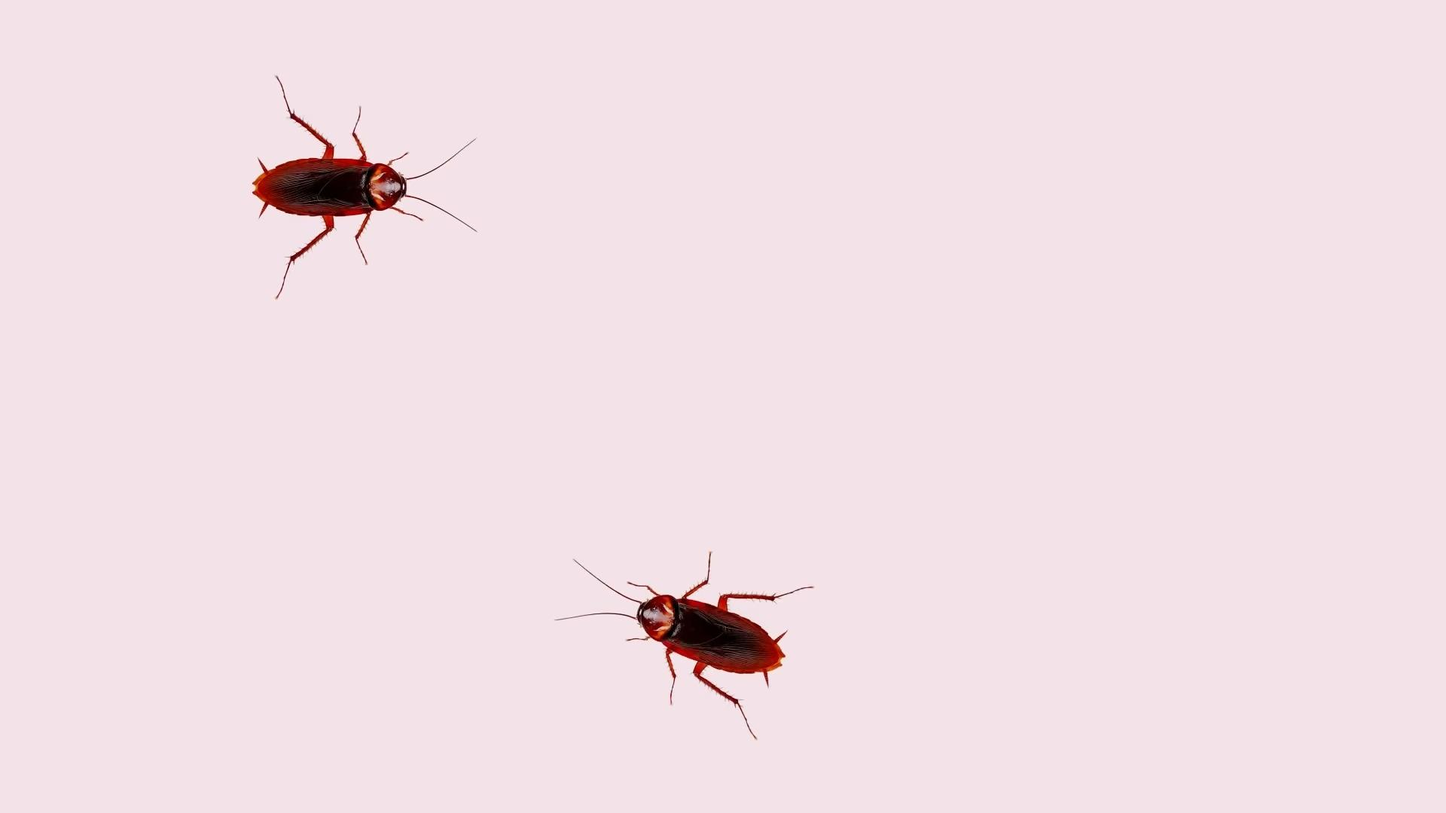cockroach: (245, 78, 480, 285), (554, 544, 798, 729)
